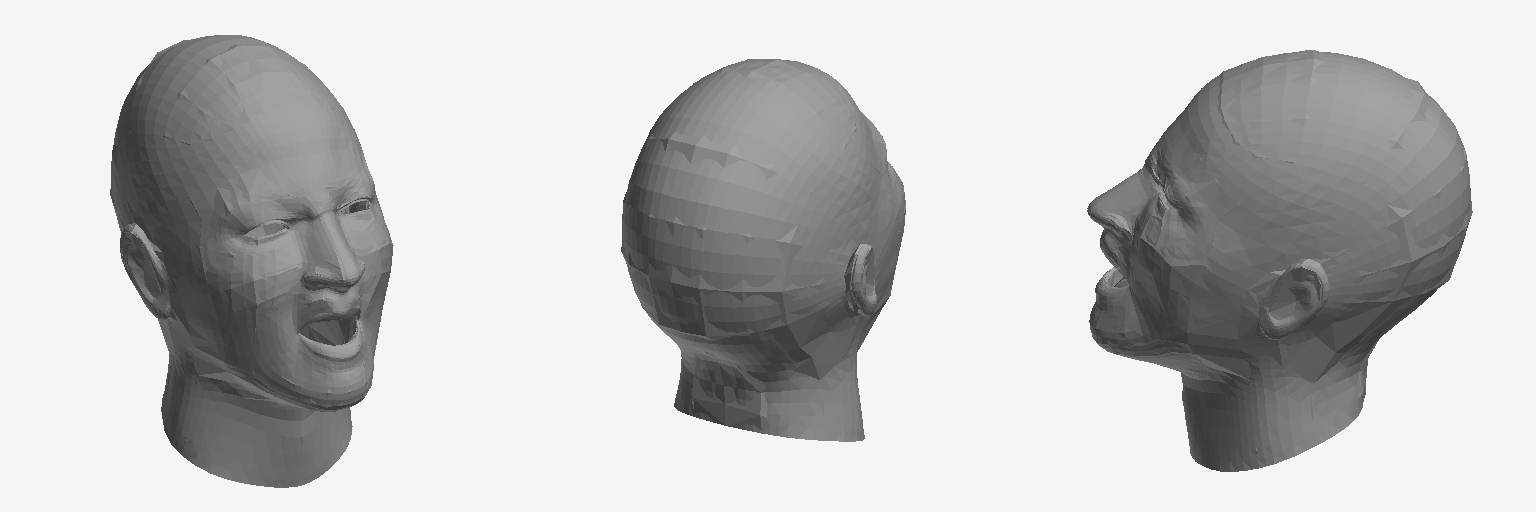
The model's file is my_angry.obj.
3 views of the same model, side by side, from view 1: azimuth 30°, elevation 25°; view 2: azimuth 150°, elevation 25°; view 3: azimuth 270°, elevation 25° (orthographic).
Parts seen in each view (by area): view 1: skin_hi.004, skin_lo.004; view 2: skin_hi.004, skin_lo.004; view 3: skin_hi.004, skin_lo.004.
Part boxes in pixels (x1,y1,x2,y2): skin_hi.004: (113,35,391,487); skin_lo.004: (110,39,393,444); skin_hi.004: (623,59,904,441); skin_lo.004: (621,59,905,433); skin_hi.004: (1087,52,1470,471); skin_lo.004: (1087,50,1472,455).
Size of the model in its own units: 15.75 by 25.78 by 22.81.